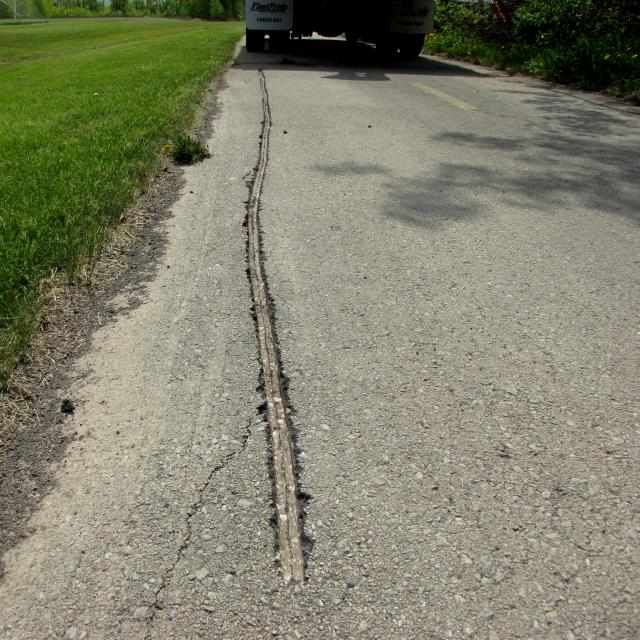Pothole: (24, 50, 514, 640)
